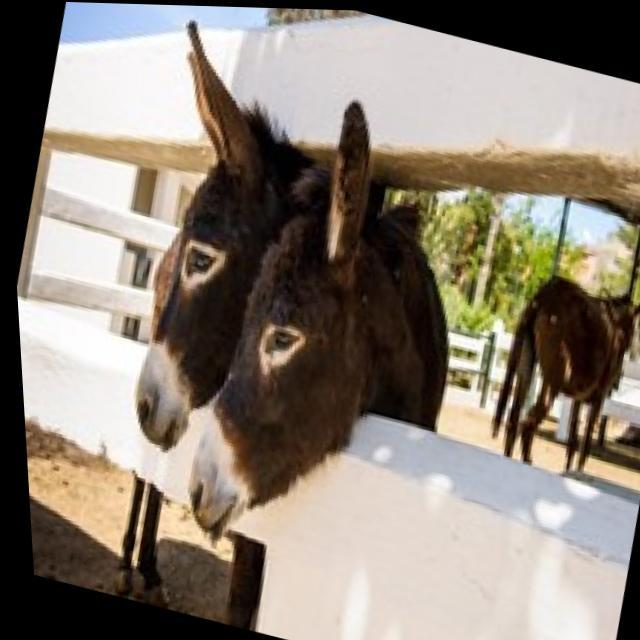Donkey: (117, 62, 552, 580), (72, 14, 302, 463)
